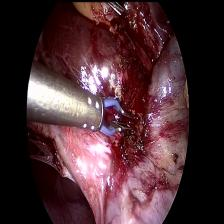Bipolar: (74, 92, 138, 138)
